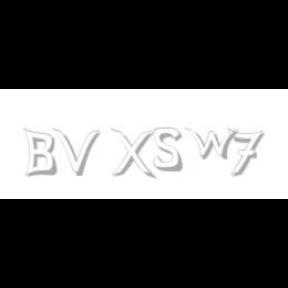7: (228, 128, 264, 178)
B: (23, 128, 57, 178)
S: (153, 128, 184, 172)
V: (52, 128, 100, 176)
X: (110, 128, 154, 180)
w: (184, 128, 244, 160)
